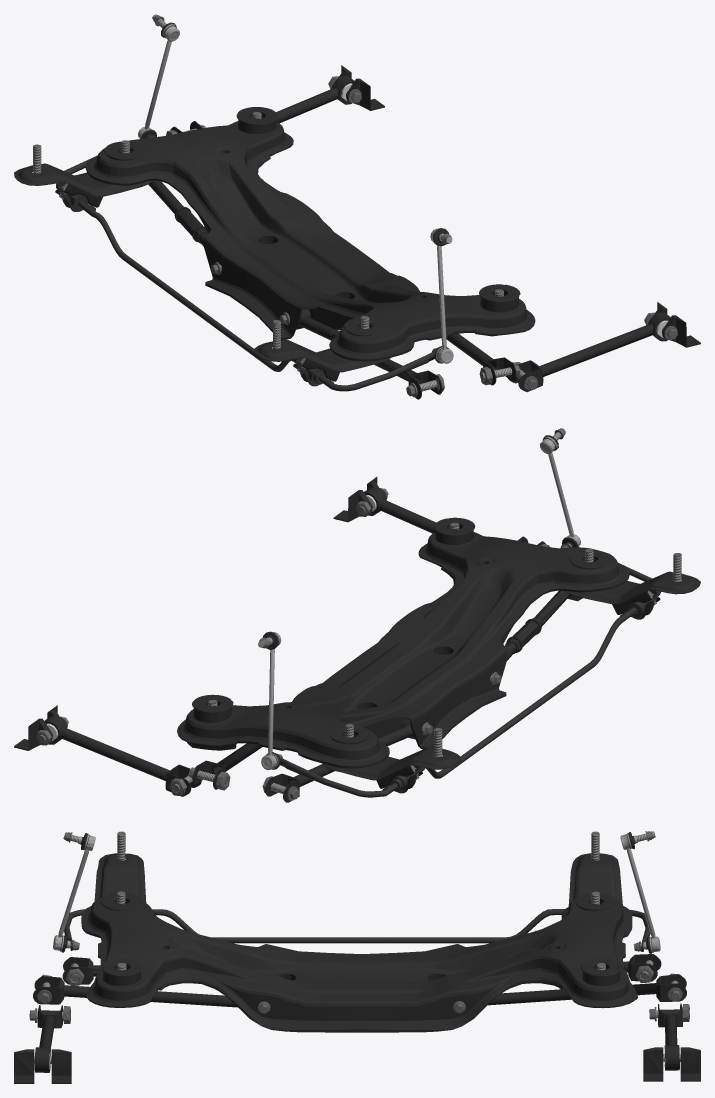
The model's file is E5_后悬挂总成.FBX.
3 renders of one model, top to bottom at view 1: azimuth 30°, elevation 25°; view 2: azimuth 150°, elevation 25°; view 3: azimuth 270°, elevation 25°, orthographic.
Parts seen in each view (by area): view 1: HXJZC00, HXJZC07, HXJZC57; view 2: HXJZC00, HXJZC07, HXJZC57; view 3: HXJZC00, HXJZC07, HXJZC57.
Part boxes in pixels (x1,y1,x2,y2): HXJZC00: (14, 107, 535, 386); HXJZC07: (148, 65, 700, 399); HXJZC57: (56, 14, 453, 391); HXJZC00: (177, 517, 700, 793); HXJZC07: (14, 477, 582, 802); HXJZC57: (258, 428, 660, 797); HXJZC00: (81, 831, 637, 1032); HXJZC07: (14, 954, 700, 1083); HXJZC57: (53, 831, 660, 954).
Size of the model in its own units: 88.18 by 40.86 by 136.
